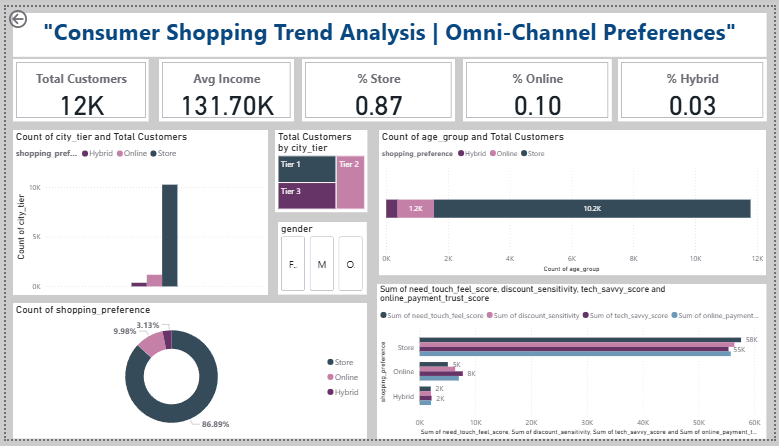

What the dashboard file says about the page in this screenshot:
{"tool":"powerbi","page":{"name":"Page 1","canvas":[1280,720],"ordinal":0},"visuals":[{"type":"cardVisual","fields":{"Data":["df_consumer_cleaned.Total Customers"]},"box":[11.5,86.4,226.1,103.7],"z":0},{"type":"cardVisual","fields":{"Data":["df_consumer_cleaned.% Store"]},"box":[493.9,86.4,254.9,103.7],"z":1000},{"type":"cardVisual","fields":{"Data":["df_consumer_cleaned.Avg Income"]},"box":[254.9,86.4,224.6,103.7],"z":2000},{"type":"cardVisual","fields":{"Data":["df_consumer_cleaned.% Online"]},"box":[761.8,86.4,247.7,103.7],"z":3000},{"type":"cardVisual","fields":{"Data":["df_consumer_cleaned.% Hybrid"]},"box":[1019.5,86.4,247.7,103.7],"z":4000},{"type":"donutChart","title":"Count of shopping_preference ","fields":{"Y":["CountNonNull(df_consumer_cleaned.shopping_preference)"],"Category":["df_consumer_cleaned.shopping_preference"]},"box":[11.5,493.9,590.4,226.1],"z":5000},{"type":"textbox","box":[11.5,10.1,1255.7,73.4],"z":6000},{"type":"clusteredColumnChart","title":"Count of city_tier and Total Customers","fields":{"Series":["df_consumer_cleaned.shopping_preference"],"Y":["CountNonNull(df_consumer_cleaned.city_tier)"]},"box":[11.5,204.5,424.8,275],"z":7000},{"type":"barChart","title":"Count of age_group and Total Customers ","fields":{"Series":["df_consumer_cleaned.shopping_preference"],"Y":["CountNonNull(df_consumer_cleaned.age_group)"]},"box":[622.1,204.5,645.1,241.9],"z":8000},{"type":"actionButton","box":[0,0,100,40],"z":9000},{"type":"clusteredBarChart","title":"Sum of need_touch_feel_score, discount_sensitivity,  tech_savvy_score and online_payment_trust_score","fields":{"Y":["Sum(df_consumer_cleaned.need_touch_feel_score)","Sum(df_consumer_cleaned.discount_sensitivity)","Sum(df_consumer_cleaned.tech_savvy_score)","Sum(df_consumer_cleaned.online_payment_trust_score)"],"Category":["df_consumer_cleaned.shopping_preference"]},"box":[617.8,462.2,649.4,257.8],"z":10000},{"type":"treemap","fields":{"Values":["df_consumer_cleaned.Total Customers"],"Details":["df_consumer_cleaned.city_tier"]},"box":[447.8,204.5,154.1,136.8],"z":11000},{"type":"advancedSlicerVisual","fields":{"Values":["df_consumer_cleaned.gender"]},"box":[453.6,358.6,148.3,121],"z":12000}]}

Visuals, with their boxes in screenshot pixels (x1, y1, x2, y2):
cardVisual - df_consumer_cleaned.Total Customers: locate(11, 56, 147, 118)
cardVisual - df_consumer_cleaned.% Store: locate(300, 56, 453, 118)
cardVisual - df_consumer_cleaned.Avg Income: locate(157, 56, 292, 118)
cardVisual - df_consumer_cleaned.% Online: locate(461, 56, 610, 118)
cardVisual - df_consumer_cleaned.% Hybrid: locate(616, 56, 765, 118)
"Count of shopping_preference " donutChart: locate(11, 300, 365, 436)
textbox: locate(11, 10, 765, 54)
"Count of city_tier and Total Customers" clusteredColumnChart: locate(11, 127, 266, 292)
"Count of age_group and Total Customers " barChart: locate(377, 127, 765, 272)
actionButton: locate(4, 4, 64, 28)
"Sum of need_touch_feel_score, discount_sensitivity,  tech_savvy_score and online_payment_trust_score" clusteredBarChart: locate(375, 281, 765, 436)
treemap - df_consumer_cleaned.Total Customers x df_consumer_cleaned.city_tier: locate(273, 127, 365, 209)
advancedSlicerVisual - df_consumer_cleaned.gender: locate(276, 219, 365, 292)
